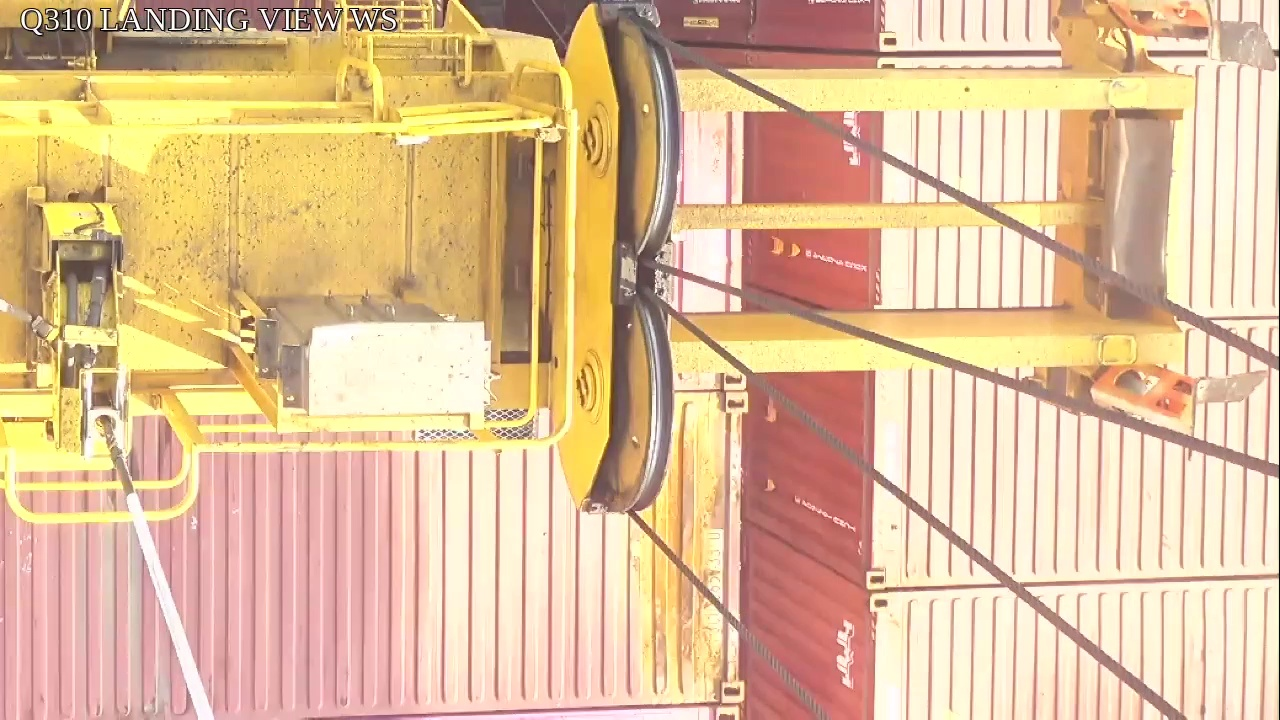right: (551, 3, 678, 507)
